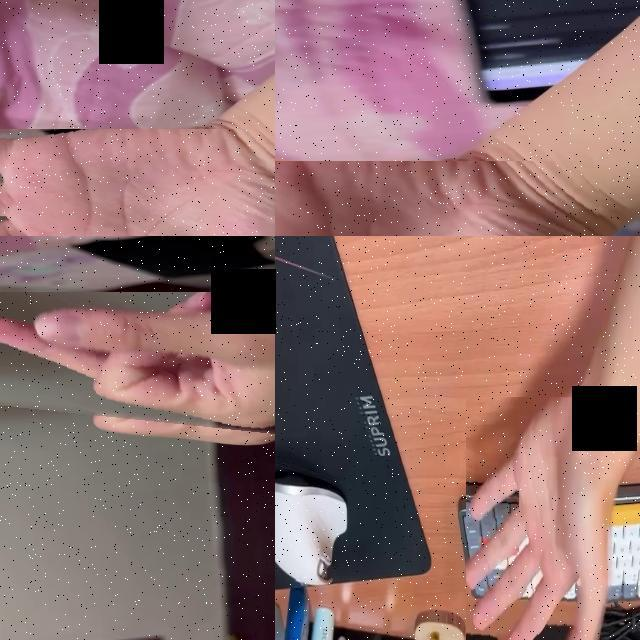keyboard-with-hands: (463, 489, 640, 601)
